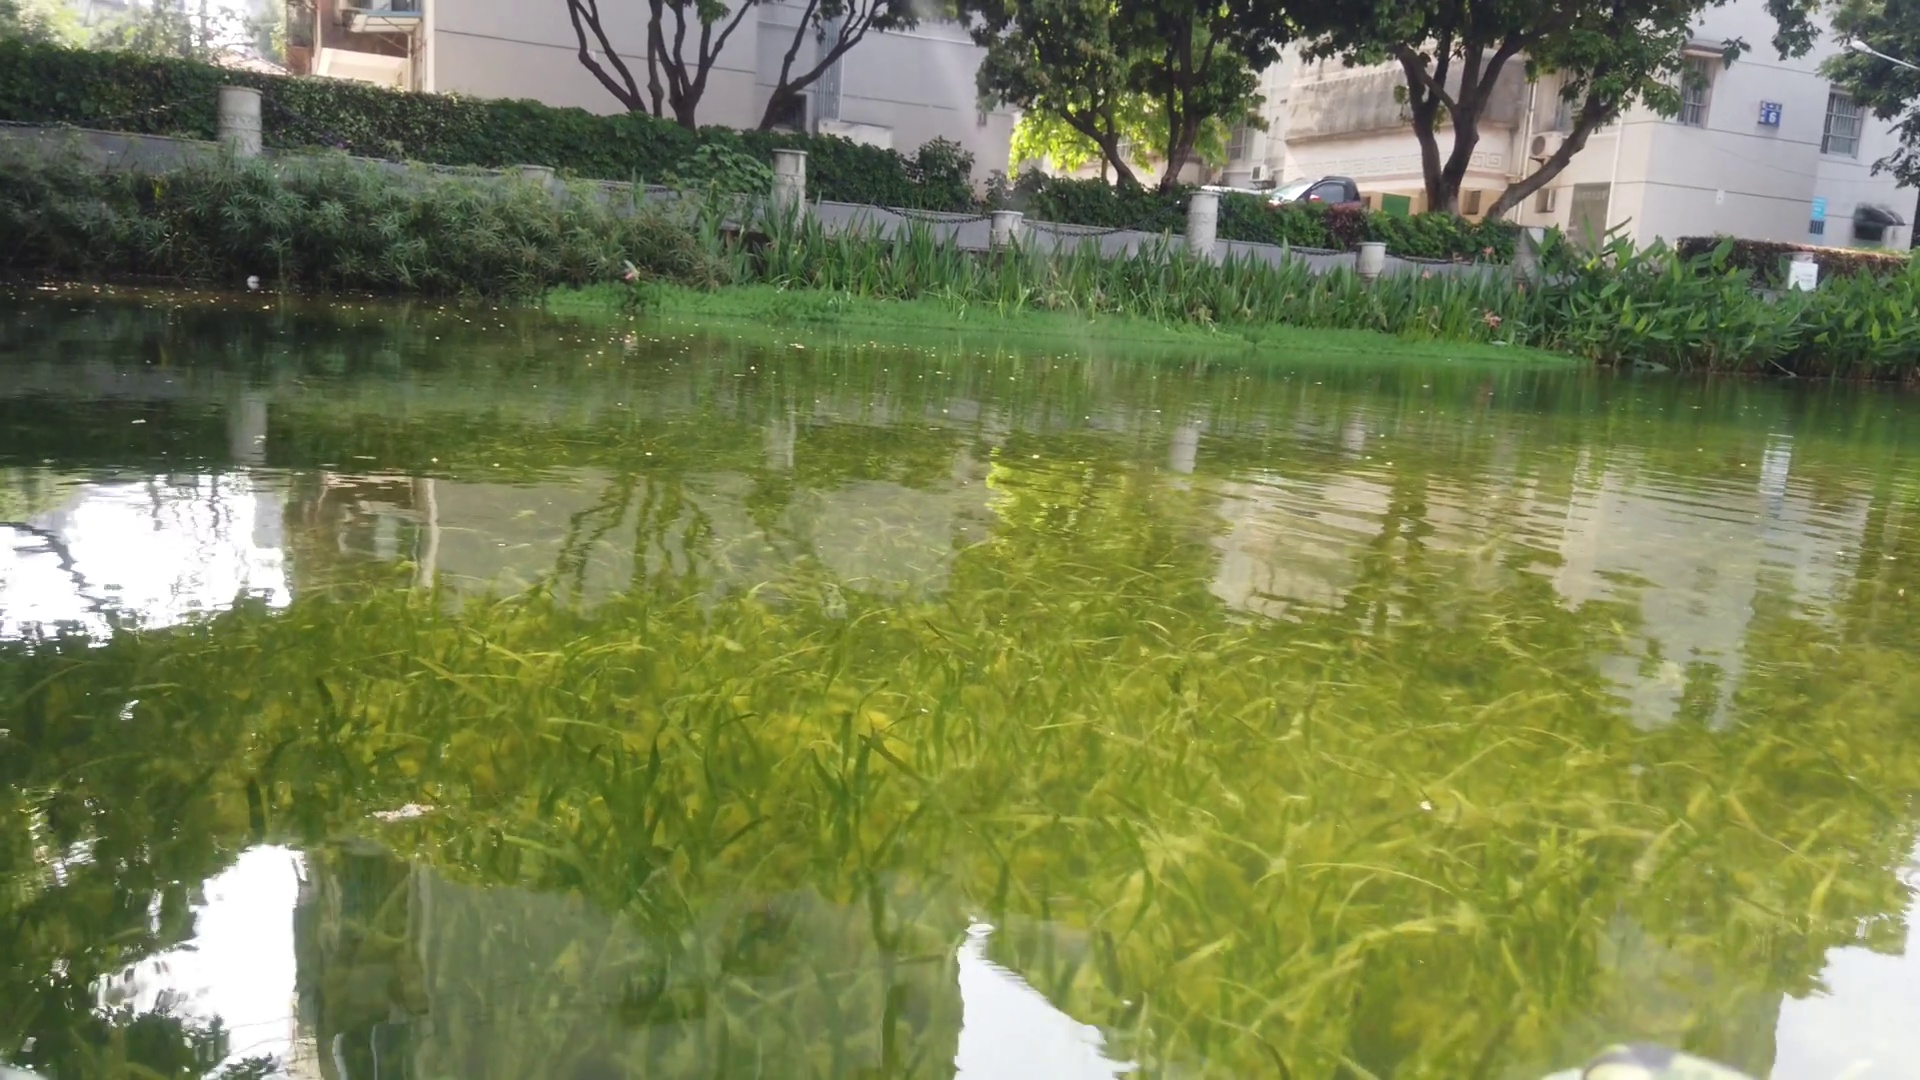bottle: (244, 272, 265, 284)
